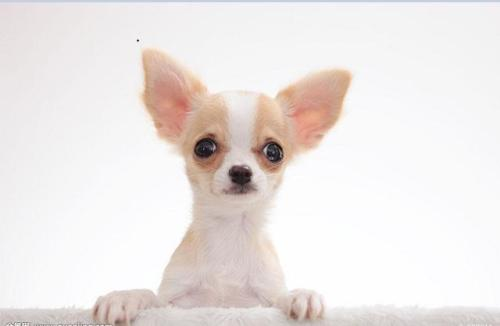dog: (88, 34, 356, 326)
